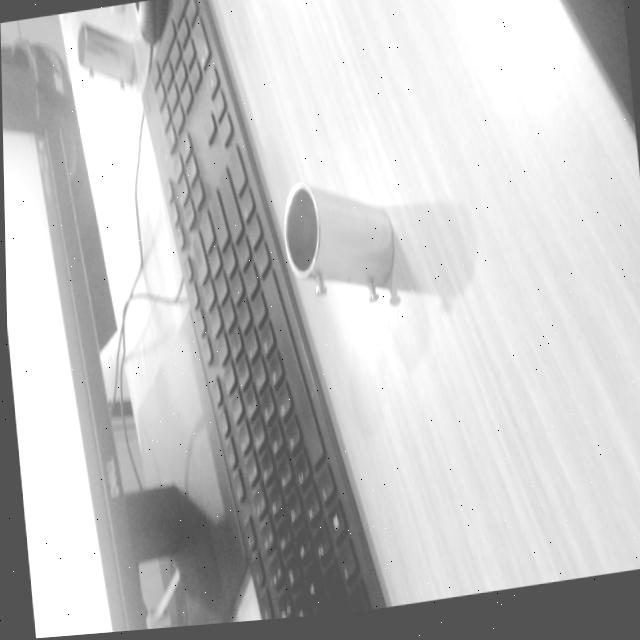Co_Lon: (276, 179, 401, 302)
